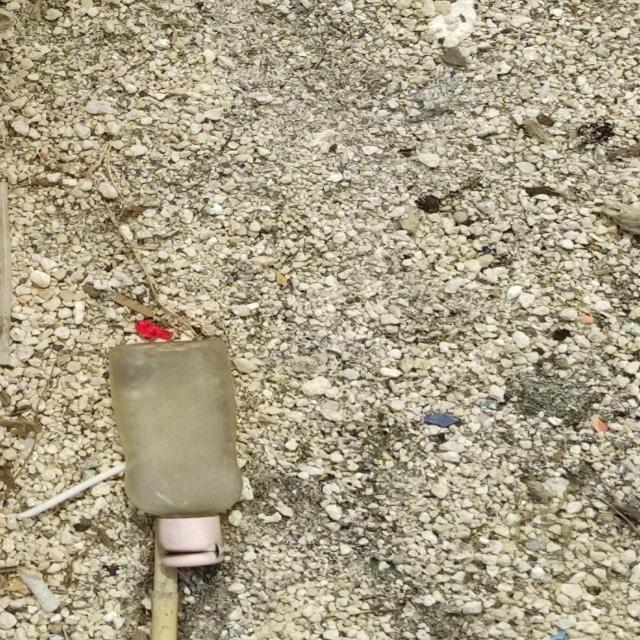plastic_waste: (109, 336, 244, 569)
